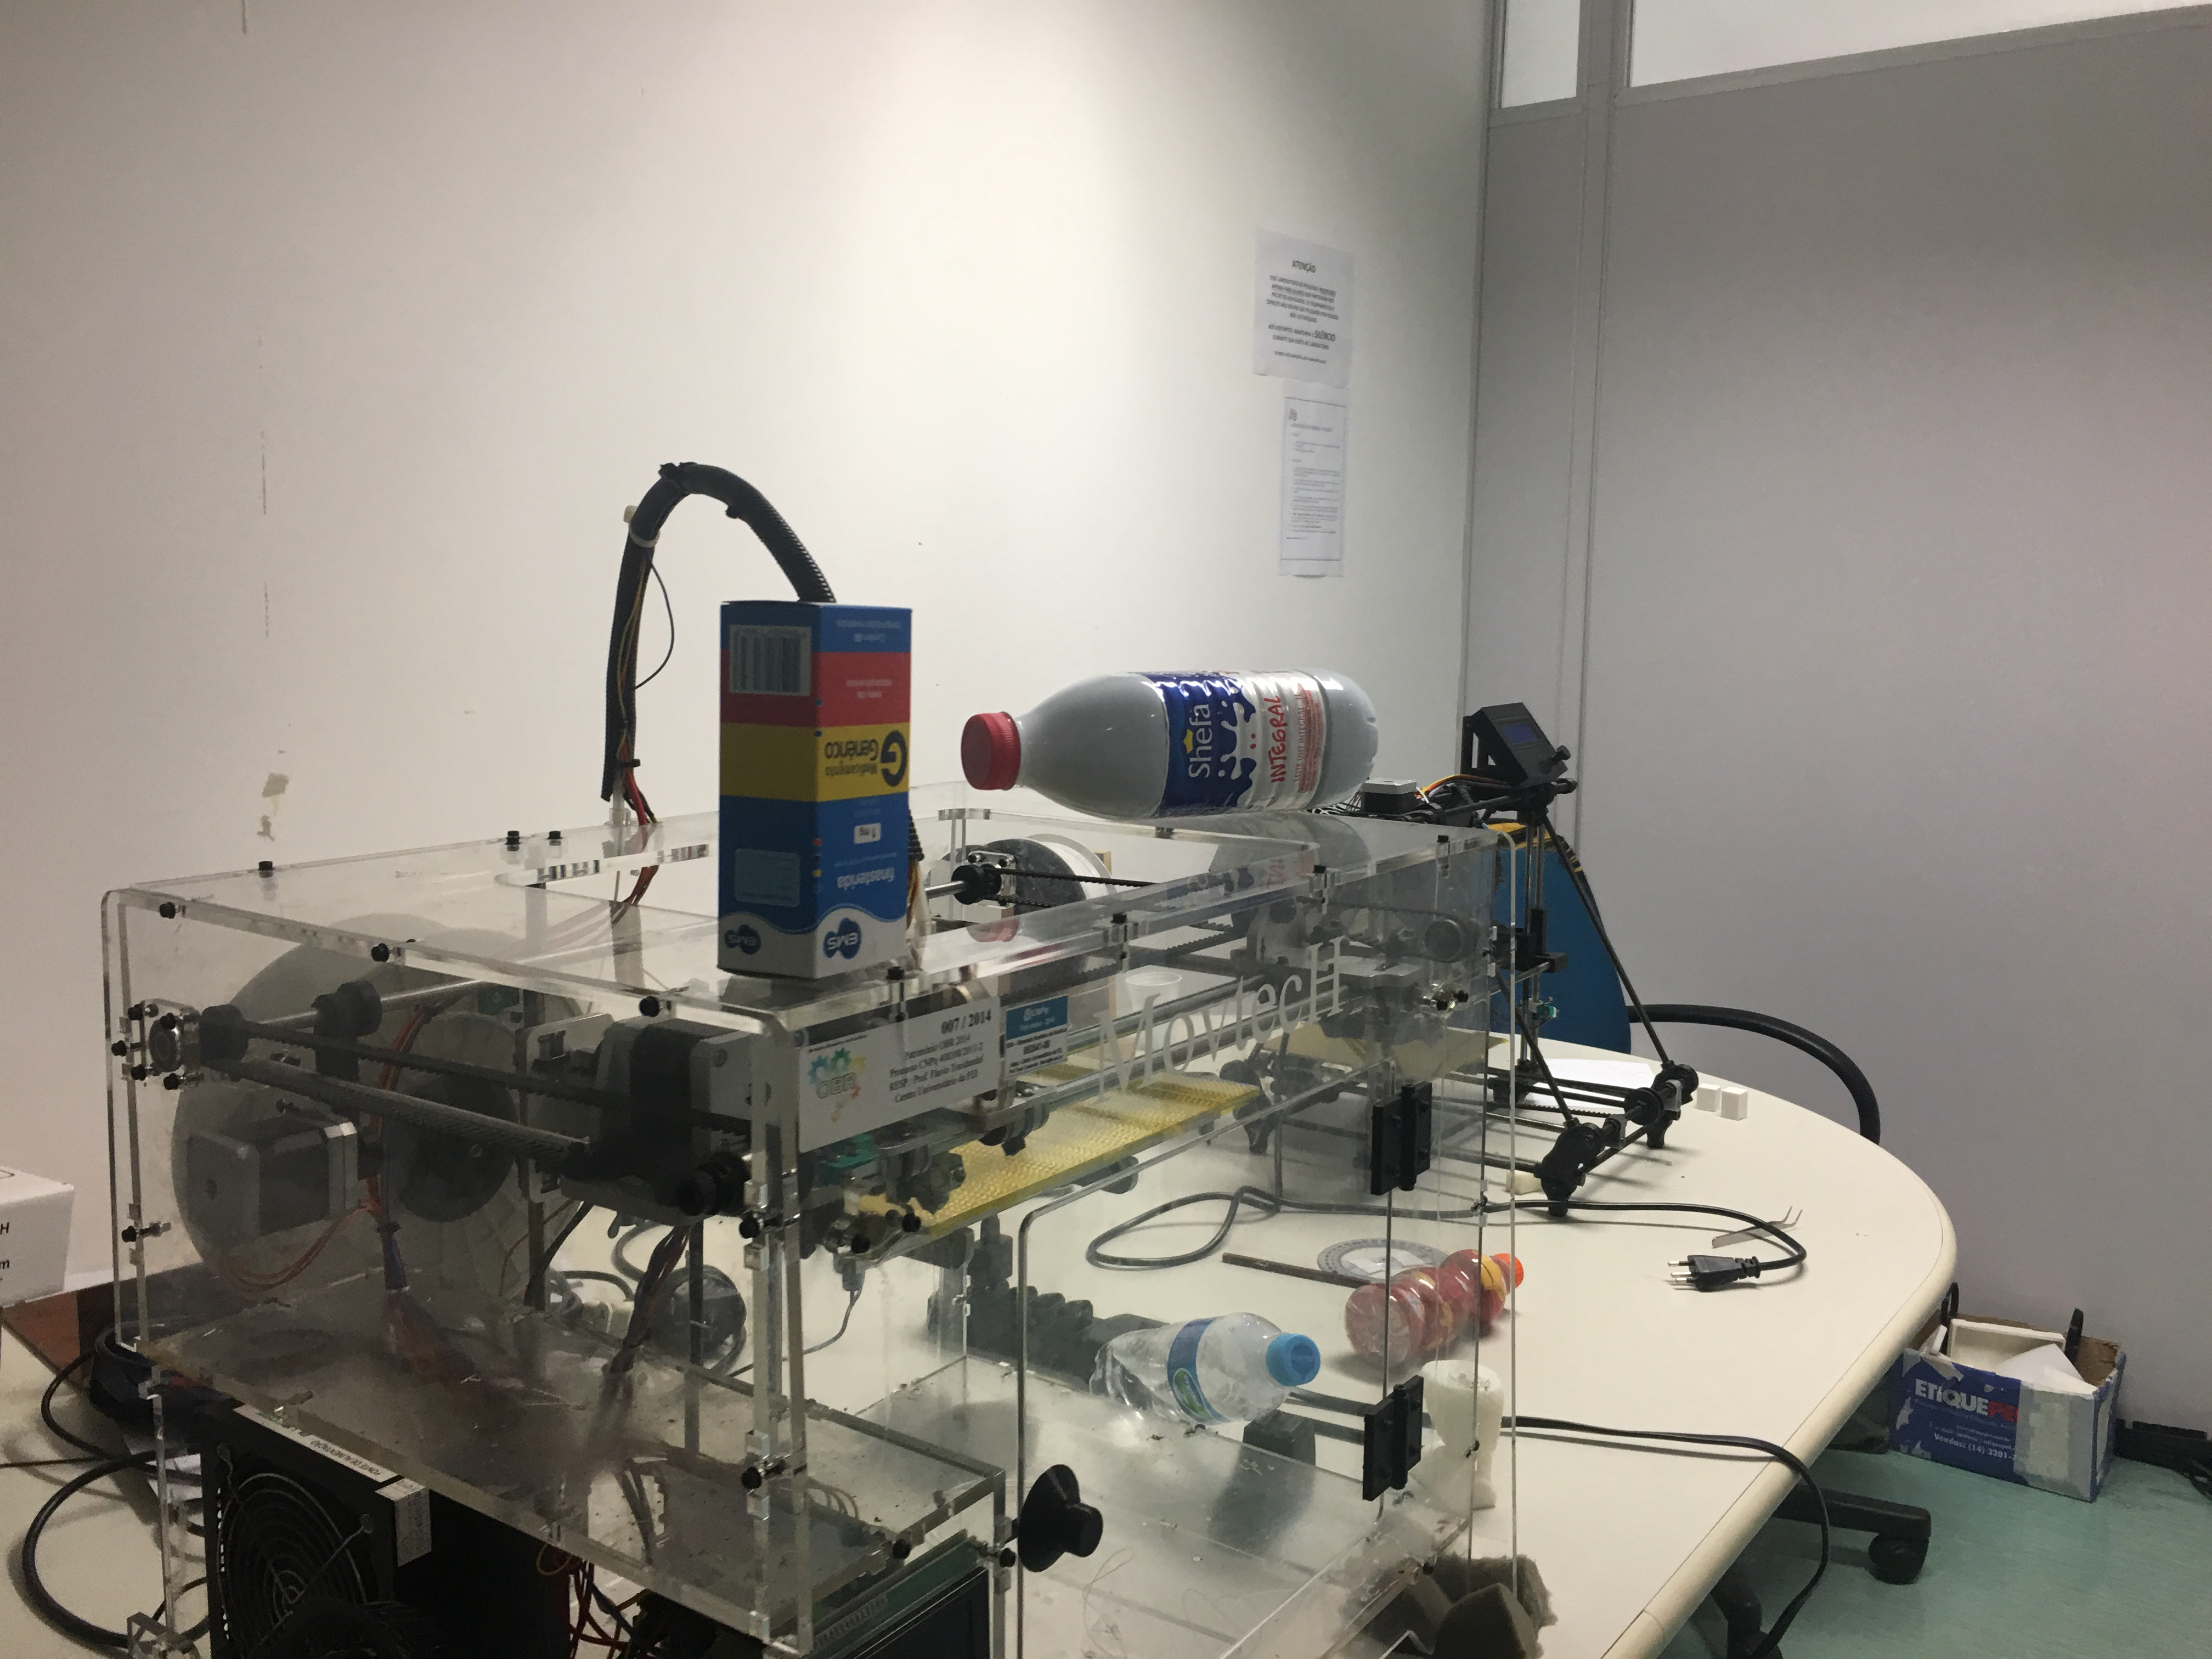medicine: (707, 587, 923, 993)
milk_bottle: (960, 667, 1381, 833)
